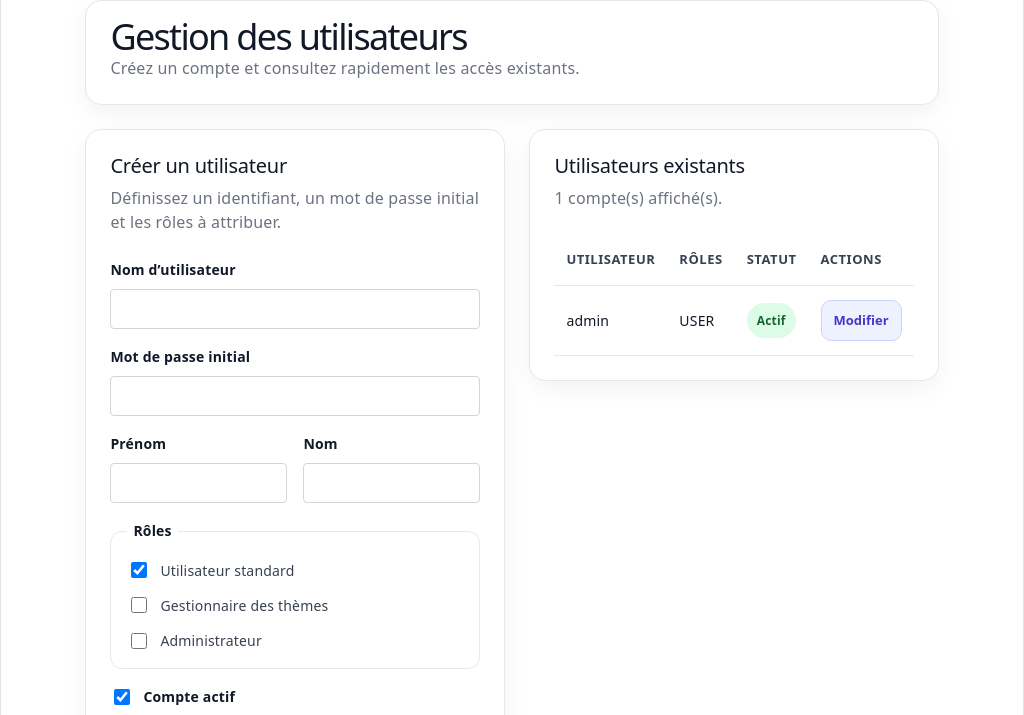
Test: UserAdminPage › disables the update submit button when no role remains selected
Expected: the cell "admin" is shown, top-left (554, 286), bottom-right (667, 356)
Click the button named "Modifier admin" at (861, 321), box top-left (820, 300), bottom-right (902, 341)
(page scrolled)
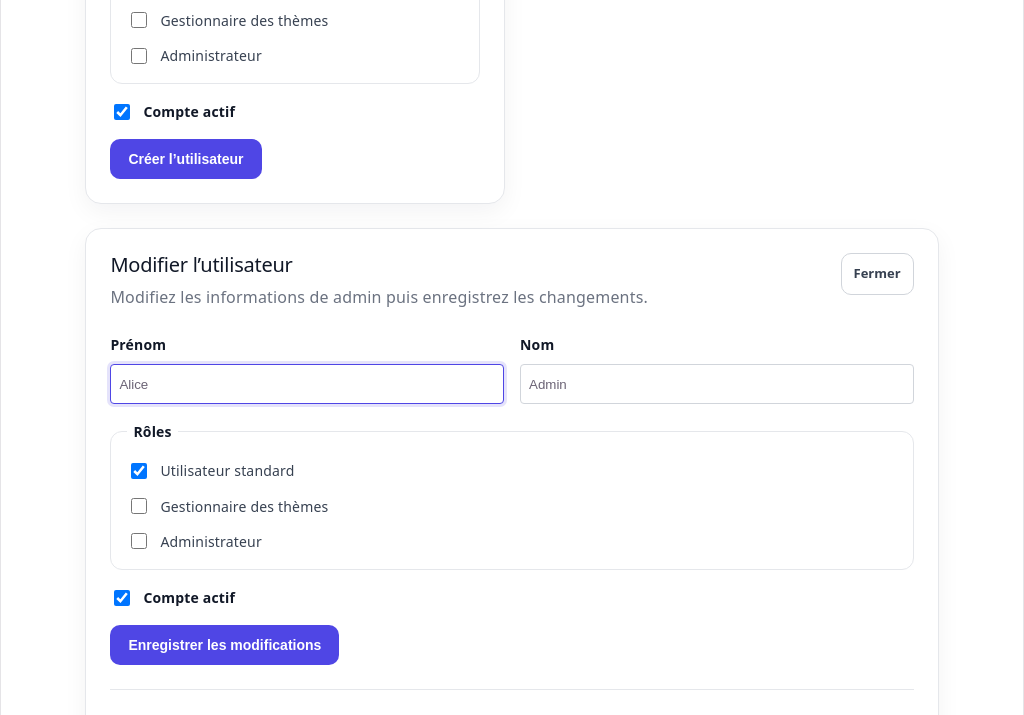
Click the checkbox labelled "Utilisateur standard" at (139, 471), box top-left (131, 463), bottom-right (147, 479)
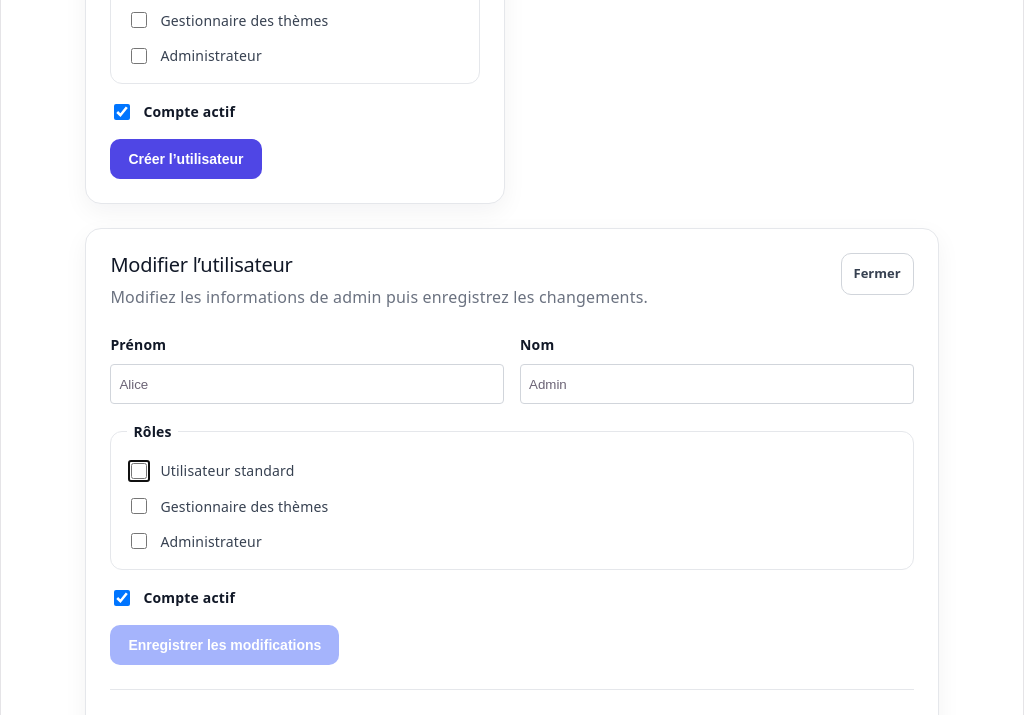
Expected: the button "Enregistrer les modifications" is disabled, top-left (110, 625), bottom-right (339, 665)
